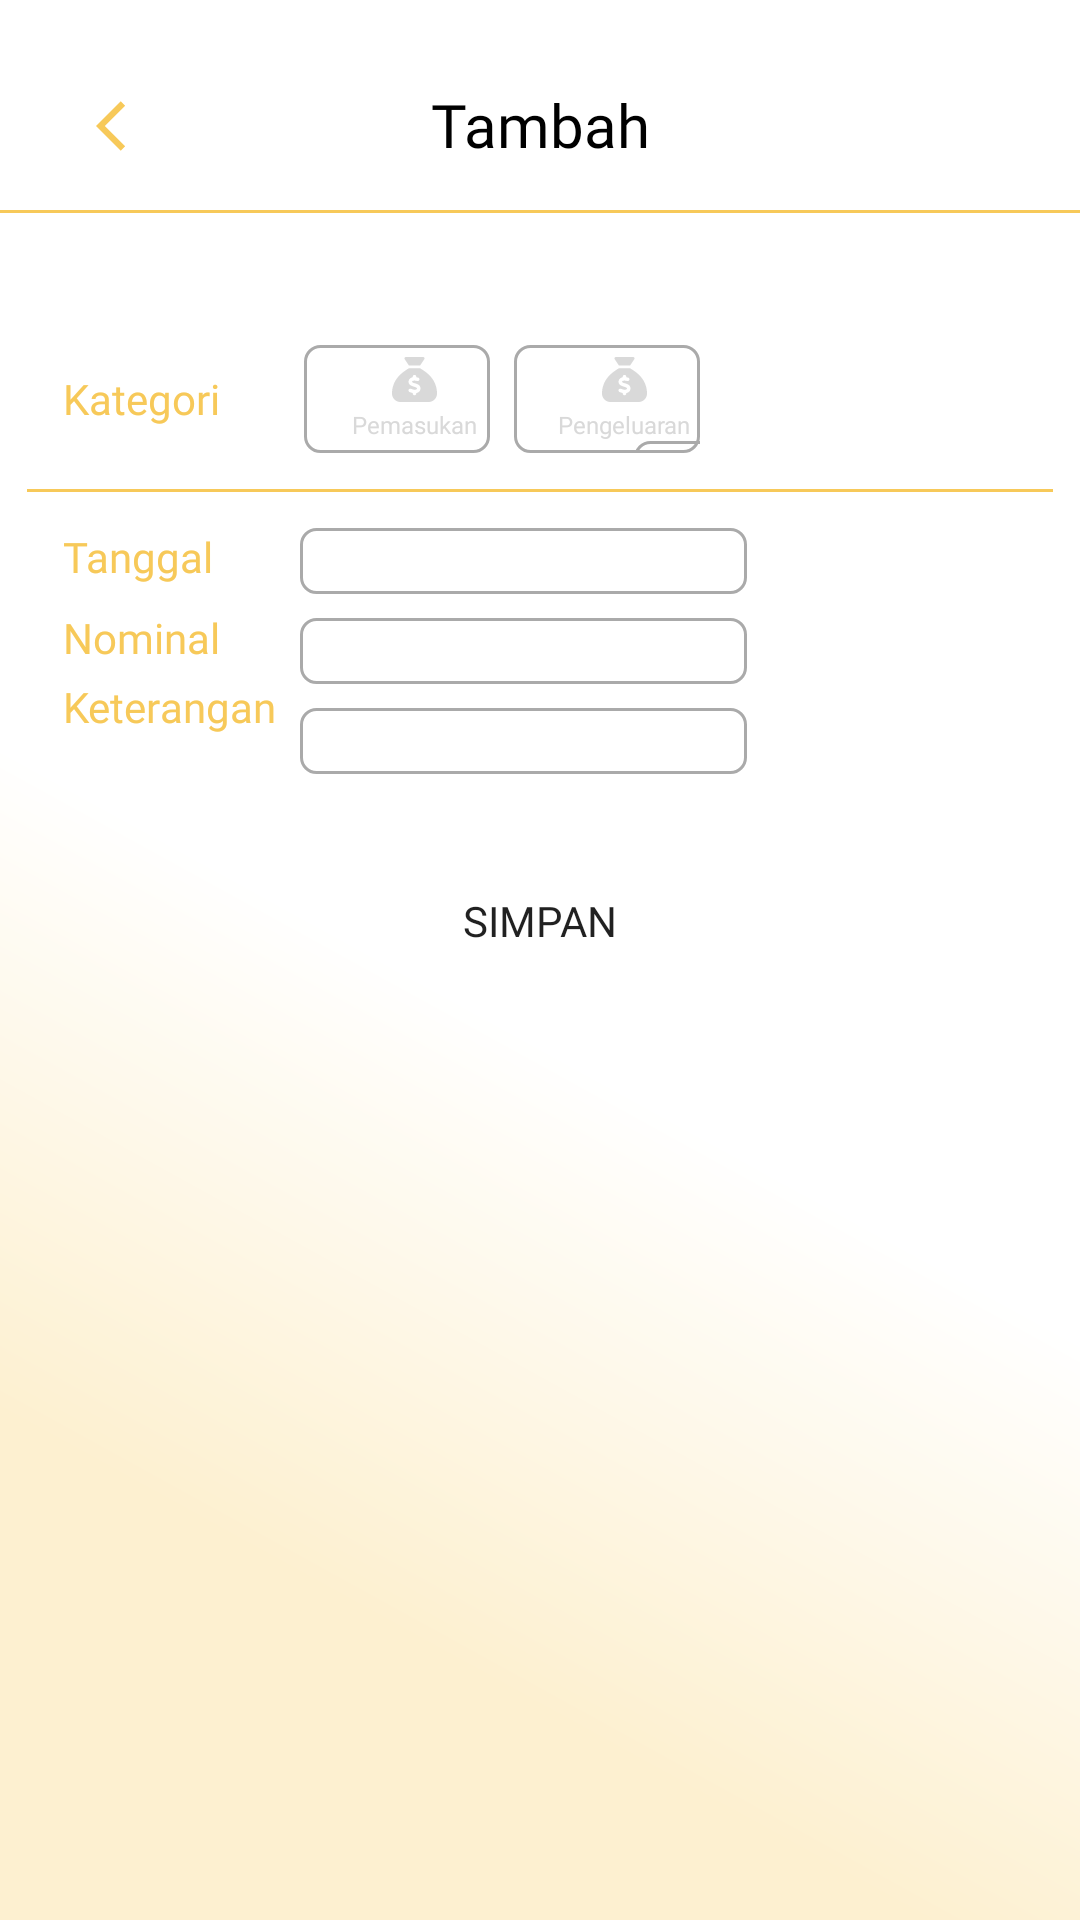

Where to tap for icons on this 1080px x 1920px app screen, as point (x, y):
back: point (110, 126)
money: point (414, 379), point (624, 379)
